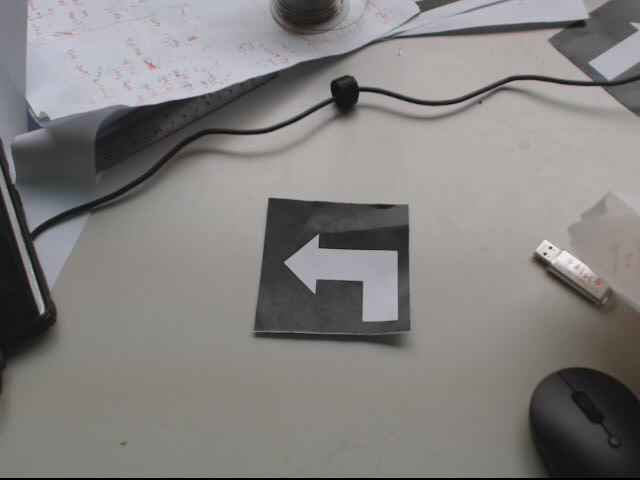left: (253, 196, 414, 339)
